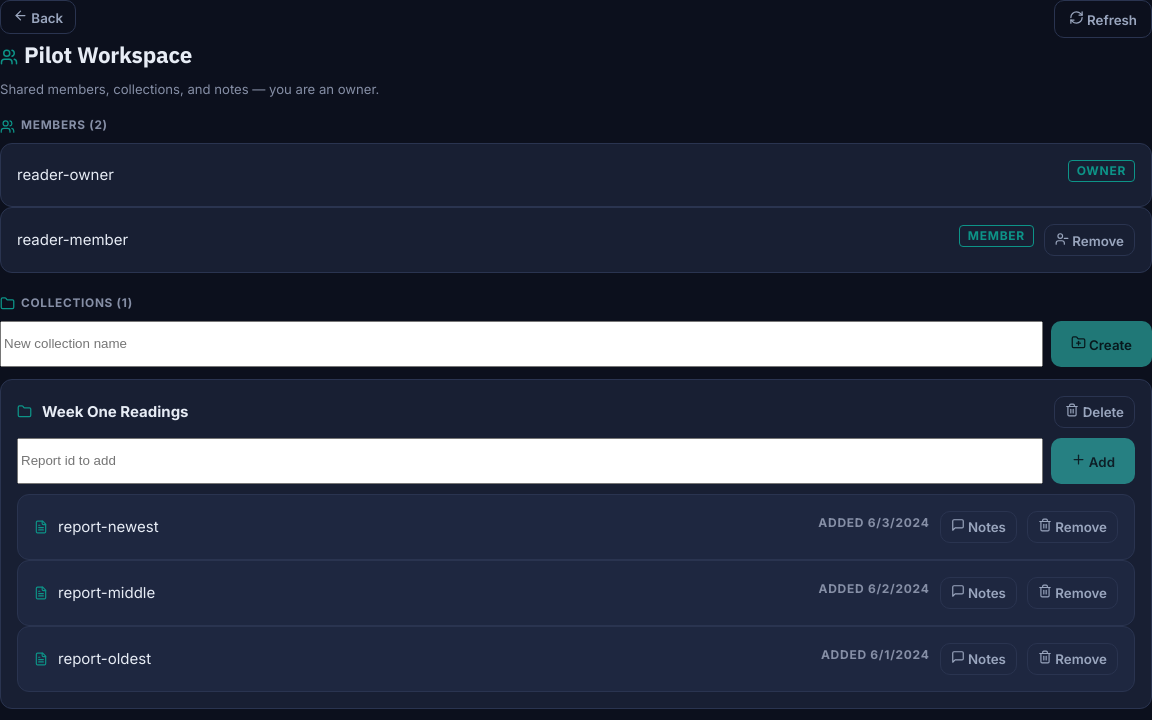
WorkspaceDetailView › adds a created collection to the list
Expected: the text "Week One Readings" is shown, [42,402,188,421]
Type "Week Two Readings" into the field labelled "New collection name". click: [521, 344]
box: [0,321,1043,367]
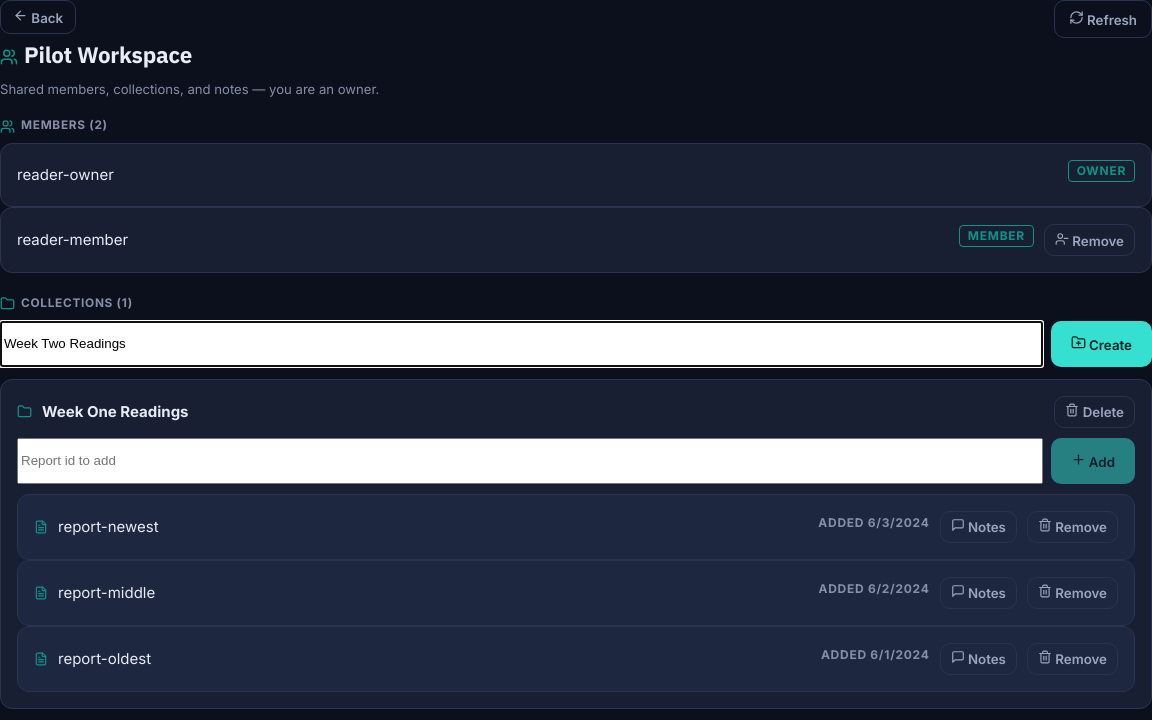
Click the button with aria-label "create collection". click: [1101, 344]
box: [1051,321,1151,367]
(page scrolled)
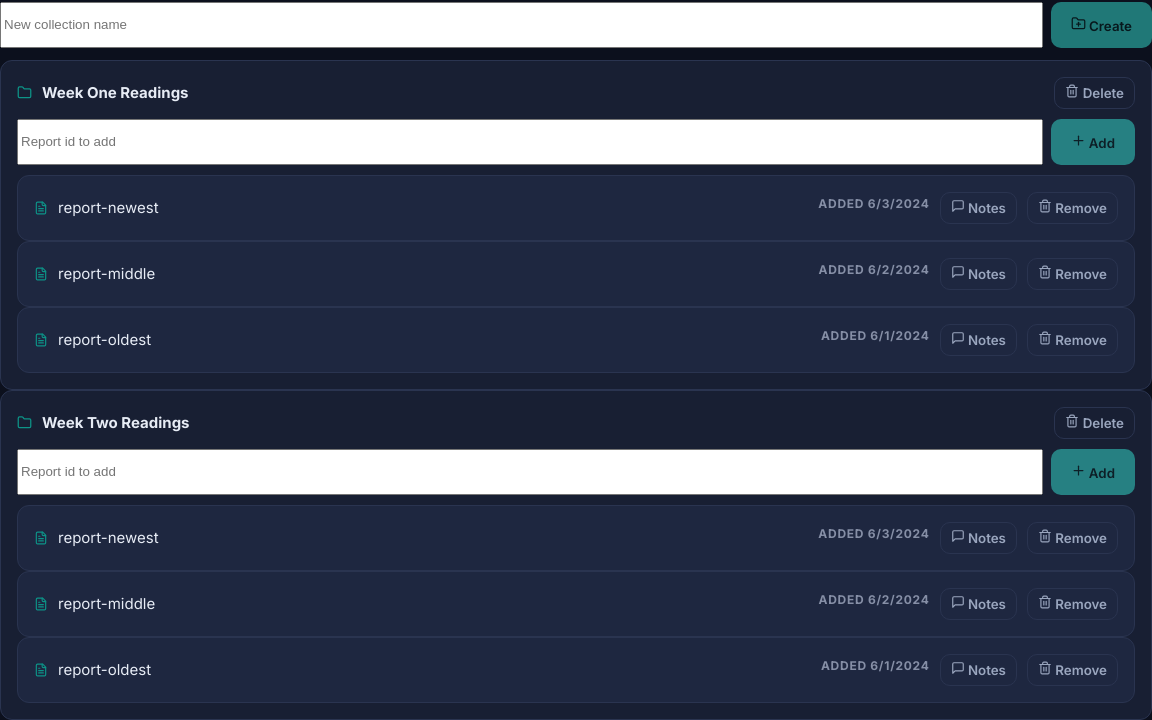
Now the text "Week Two Readings" is shown, box [42,413,190,432]
